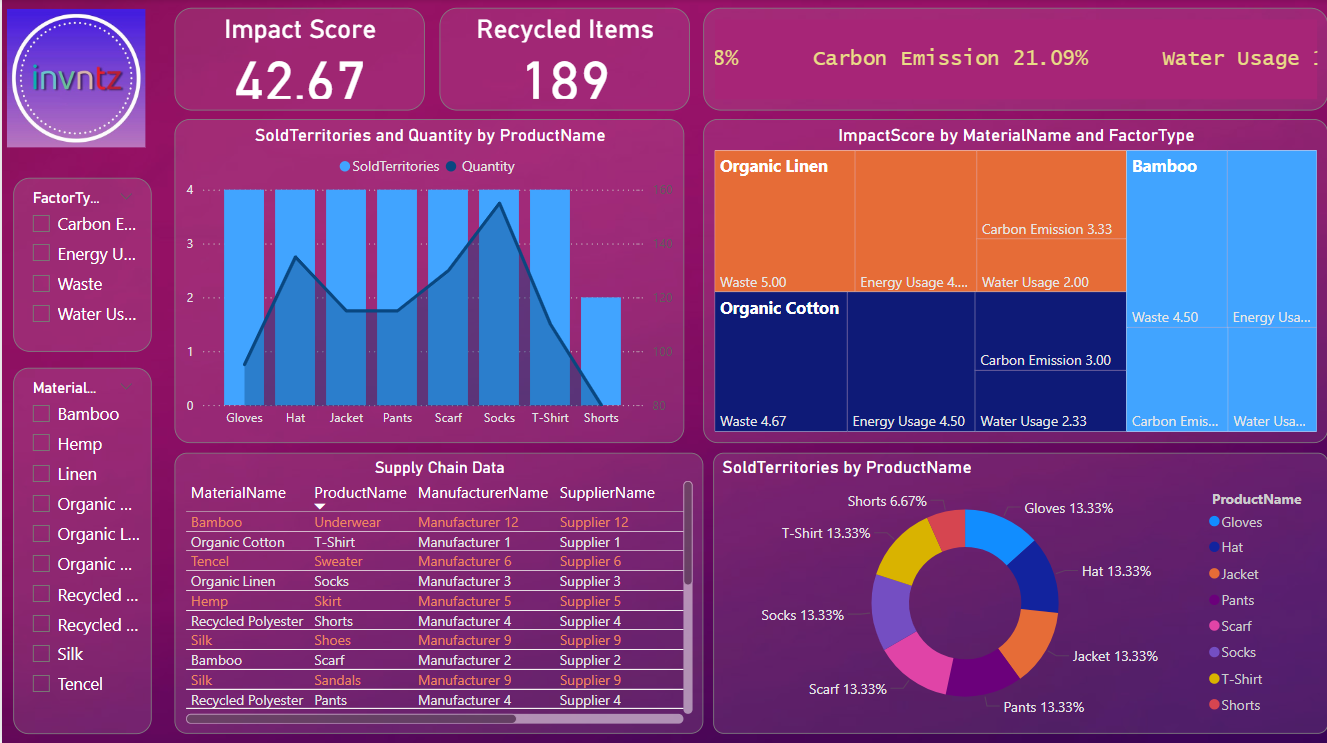

What the dashboard file says about the page in this screenshot:
{"tool":"powerbi","page":{"name":"Page 1","canvas":[1280,720],"ordinal":0},"visuals":[{"type":"tableEx","title":"Supply Chain Data","fields":{"Values":["supply_chain_data.MaterialName","supply_chain_data.ProductName","supply_chain_data.ManufacturerName","supply_chain_data.SupplierName"]},"box":[166.5,437.9,510.3,271.4],"z":0},{"type":"treemap","title":"ImpactScore by MaterialName and FactorType","fields":{"Group":["environmental_impact_data.MaterialName"],"Values":["Sum(environmental_impact_data.ImpactScore)"],"Details":["environmental_impact_data.FactorType"]},"box":[676.8,115.8,603.2,312.5],"z":1000},{"type":"donutChart","fields":{"Category":["digital_product_passport.ProductName","digital_product_passport.SoldTerritories"],"Y":["CountNonNull(digital_product_passport.SoldTerritories)"]},"box":[686.5,437.9,593.6,271.4],"z":2000},{"type":"lineStackedColumnComboChart","fields":{"Category":["digital_product_passport.ProductName"],"Y2":["Sum(digital_product_passport.Quantity)"],"Y":["CountNonNull(digital_product_passport.SoldTerritories)"]},"box":[166.5,115.8,492.2,312.5],"z":3000},{"type":"ScrollingTextVisual1448795304508","title":" ImpactScore by FactorType","fields":{"Measure Absolute":["Sum(environmental_impact_data.ImpactScore)"],"Category":["environmental_impact_data.FactorType"]},"box":[676.8,8.4,603.2,98.9],"z":4000},{"type":"card","title":"Recycled Items","fields":{"Values":["Sum(digital_product_passport.RecycledItems)"]},"box":[422.3,8.4,241.3,98.9],"z":5000},{"type":"card","title":"Impact Score","fields":{"Values":["Sum(environmental_impact_data.ImpactScore)"]},"box":[166.5,8.4,241.3,98.9],"z":6000},{"type":"slicer","fields":{"Values":["environmental_impact_data.FactorType"]},"box":[10.9,172.5,133.9,167.7],"z":7000},{"type":"slicer","fields":{"Values":["supply_chain_data.MaterialName"]},"box":[10.9,355.9,133.9,353.5],"z":8000},{"type":"image","box":[0,0,143.6,152],"z":9000}]}

Visuals, with their boxes in screenshot pixels (x1, y1, x2, y2), scaled from the page's 1280x720 canvas onto the 1327x743 screenshot:
"Supply Chain Data" tableEx: x1=173 y1=452 x2=702 y2=732
"ImpactScore by MaterialName and FactorType" treemap: x1=702 y1=119 x2=1326 y2=442
donutChart - digital_product_passport.ProductName x digital_product_passport.SoldTerritories: x1=712 y1=452 x2=1326 y2=732
lineStackedColumnComboChart - digital_product_passport.ProductName x Sum(digital_product_passport.Quantity): x1=173 y1=119 x2=683 y2=442
" ImpactScore by FactorType" ScrollingTextVisual1448795304508: x1=702 y1=9 x2=1326 y2=111
"Recycled Items" card: x1=438 y1=9 x2=688 y2=111
"Impact Score" card: x1=173 y1=9 x2=423 y2=111
slicer - environmental_impact_data.FactorType: x1=11 y1=178 x2=150 y2=351
slicer - supply_chain_data.MaterialName: x1=11 y1=367 x2=150 y2=732
image: x1=0 y1=0 x2=149 y2=157
